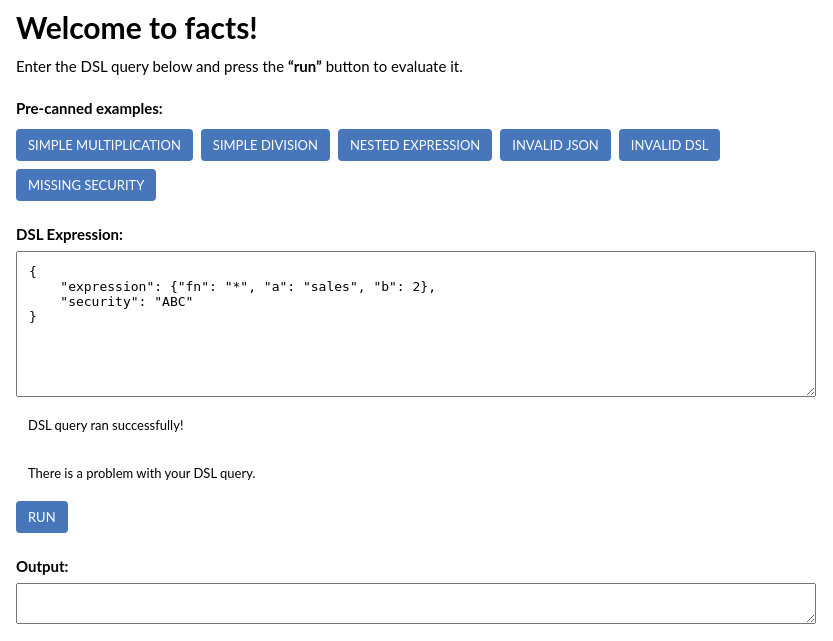
Test: Index page › should set the expression + clear output when an example button is clicked
Press run button to fill output text
Click the button with test id "run-button": {"x": 42, "y": 517} [16,501,68,533]
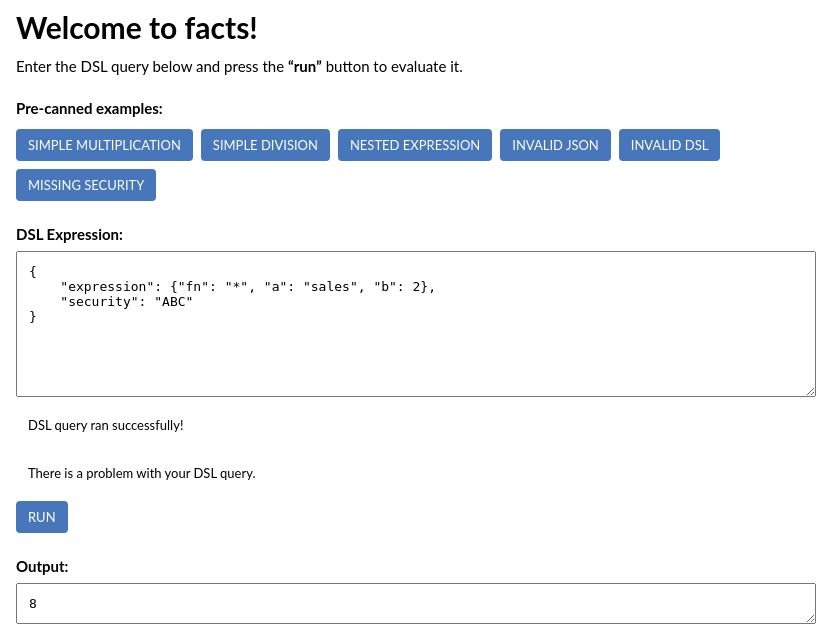
Expected: the text box with test id "output-text-area" is not empty, [16,583,816,624]
Press example button
Click the button with test id "button-divide": {"x": 265, "y": 145} [201,129,330,161]
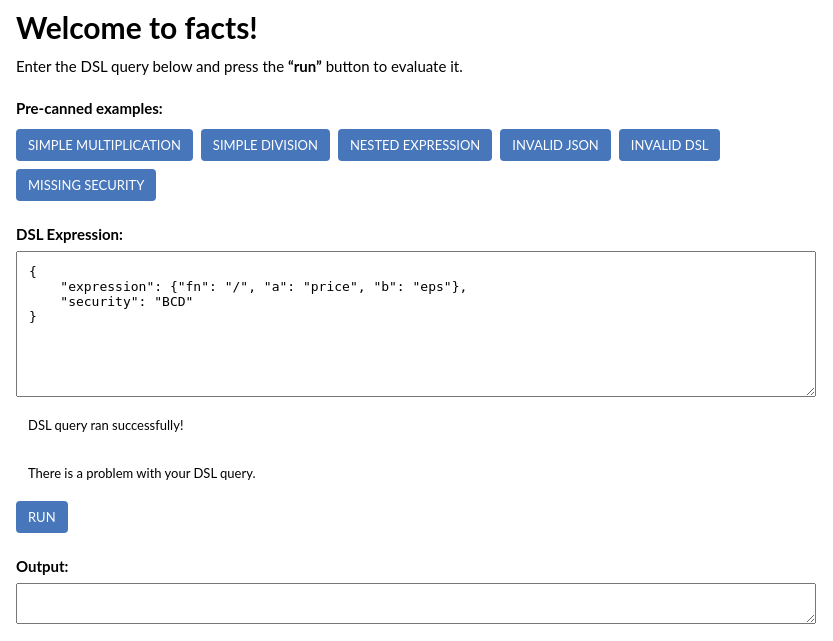
Expected: the text box with test id "expression-input" holds "{     \"expression\": {\"fn\": \"/\", \"a\": \"price\", \"b\": \"eps\"},     \"security\": \"BCD\" }", [16,251,816,397]
Expected: the text box with test id "output-text-area" is empty, [16,583,816,624]
